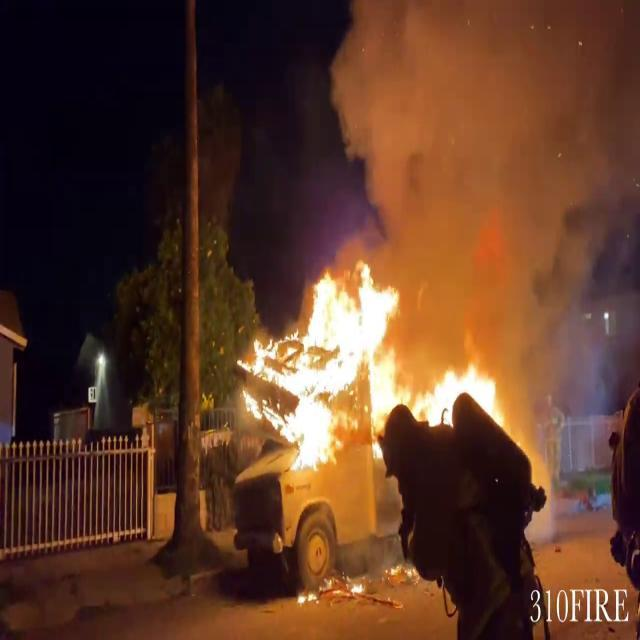Fire: (234, 261, 514, 479)
Smoke: (310, 0, 639, 356)
